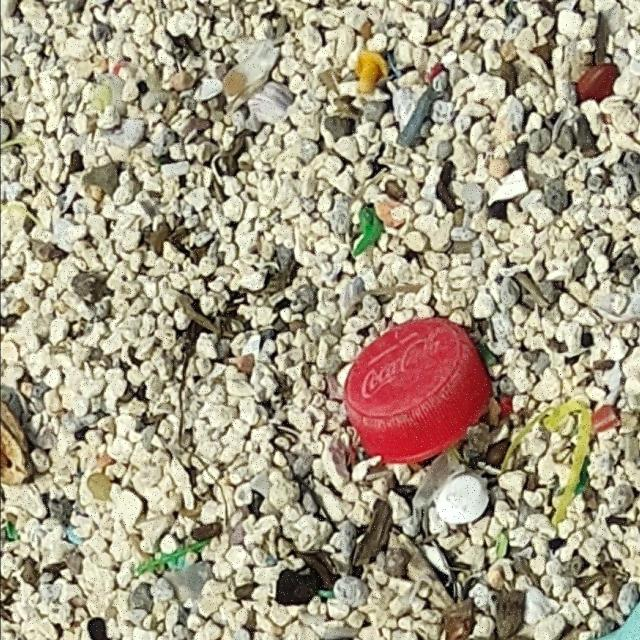plastic_waste: (344, 321, 493, 462)
